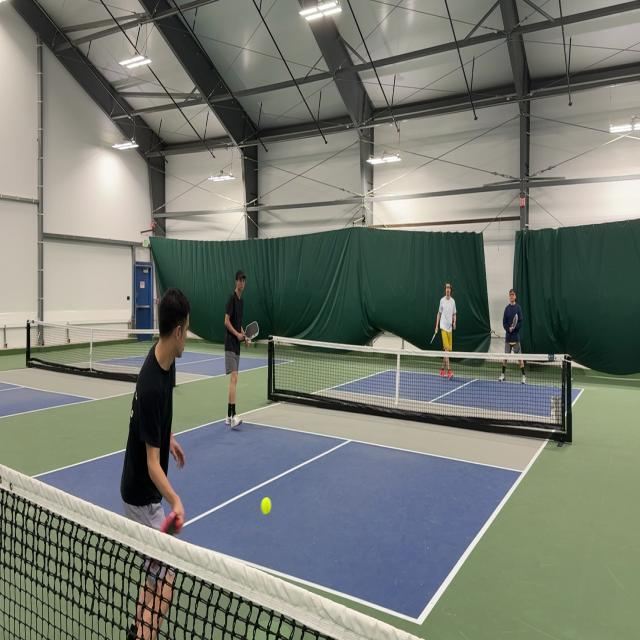ball: (260, 496, 272, 516)
